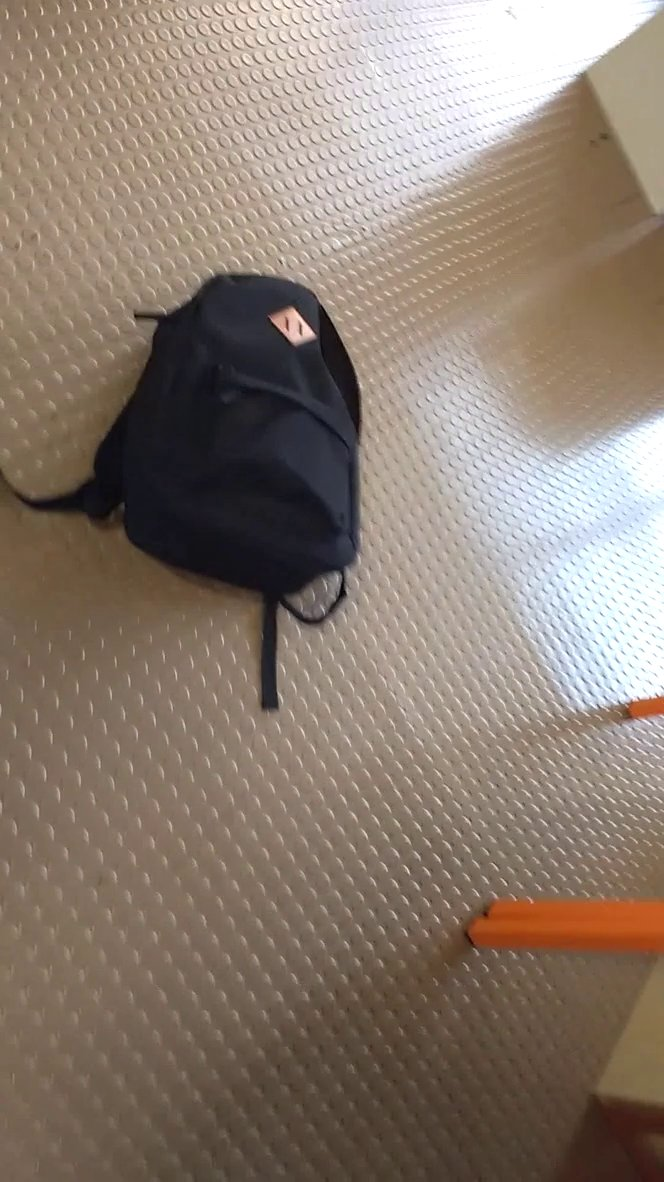bag: (2, 224, 374, 736)
